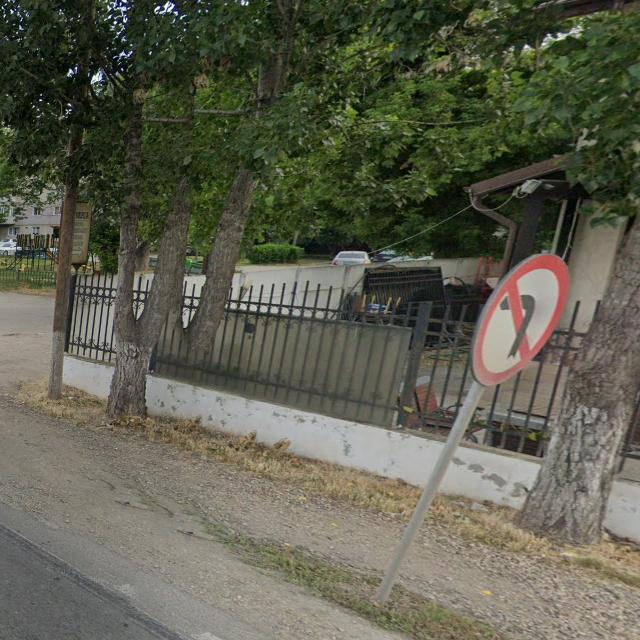forb_left: (470, 255, 570, 387)
